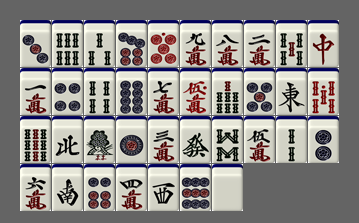0m: (180, 68, 211, 115)
0p: (148, 20, 179, 67)
0s: (308, 68, 339, 115)
1m: (20, 68, 51, 115)
1p: (116, 116, 147, 163)
1s: (84, 116, 115, 163)
1z: (276, 68, 307, 115)
2m: (244, 20, 275, 67)
2p: (308, 116, 339, 163)
2s: (276, 116, 307, 163)
2z: (52, 164, 83, 211)
3m: (148, 116, 179, 163)
3p: (20, 20, 51, 67)
3s: (84, 20, 115, 67)
3z: (148, 164, 179, 211)
4m: (116, 164, 147, 211)
4p: (52, 68, 83, 115)
4s: (84, 68, 115, 115)
4z: (52, 116, 83, 163)
5m: (244, 116, 275, 163)
5p: (244, 68, 275, 115)
5s: (276, 20, 307, 67)
5z: (212, 164, 243, 211)
6m: (20, 164, 51, 211)
6p: (84, 164, 115, 211)
6s: (52, 20, 83, 67)
6z: (180, 116, 211, 163)
7m: (148, 68, 179, 115)
7p: (116, 20, 147, 67)
7s: (212, 68, 243, 115)
7z: (308, 20, 339, 67)
8m: (212, 20, 243, 67)
8p: (116, 68, 147, 115)
8s: (212, 116, 243, 163)
9m: (180, 20, 211, 67)
9p: (180, 164, 211, 211)
9s: (20, 116, 51, 163)
